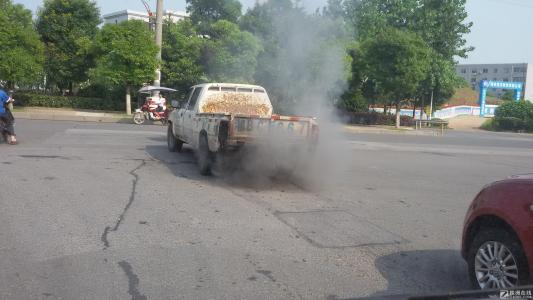smoke: (208, 142, 327, 192)
